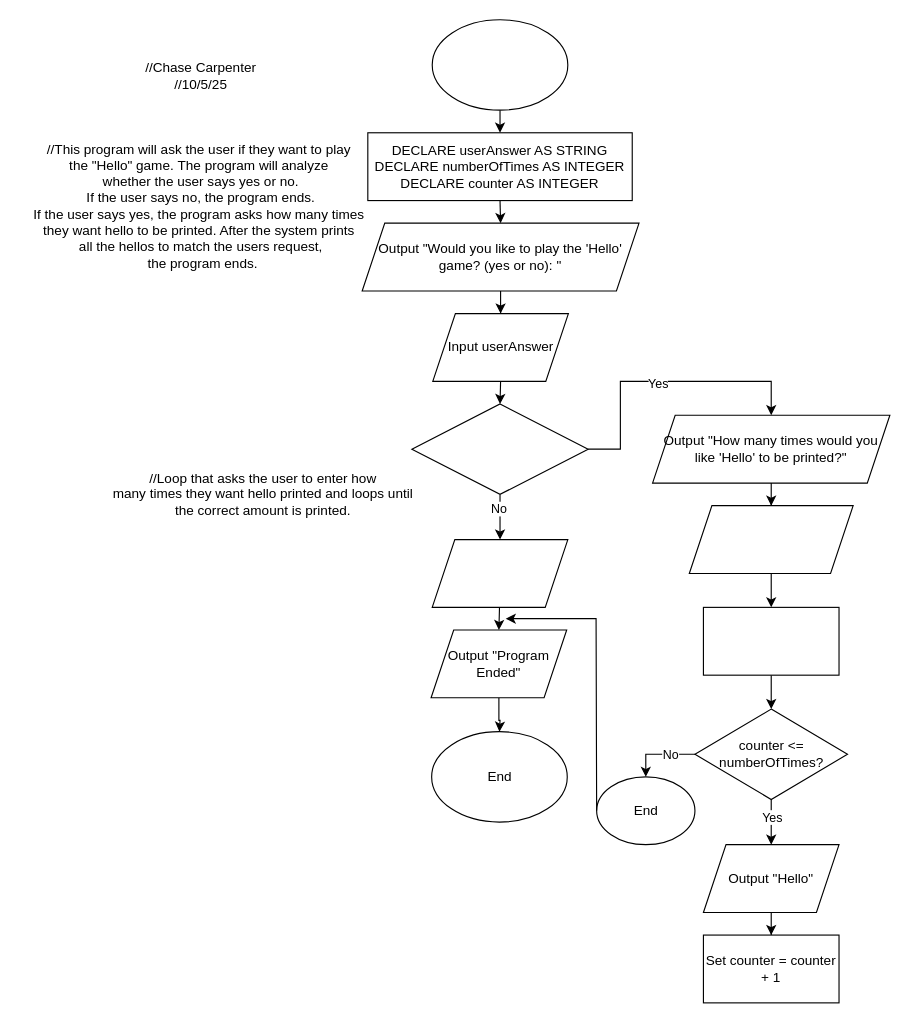
The diagram is 910 pixels wide and 1023 high, and some of its shapes have lost their labels. The shapes that lost their labels are listed below. From the top down, each one's centre as x and y in pixels, then its label:
(x=499, y=64): Start
(x=499, y=448): Is userAnswer = "yes"?
(x=770, y=539): Input numberOfTimes
(x=499, y=572): Output "Okay, maybe next time!
(x=770, y=640): Set counter = 1
